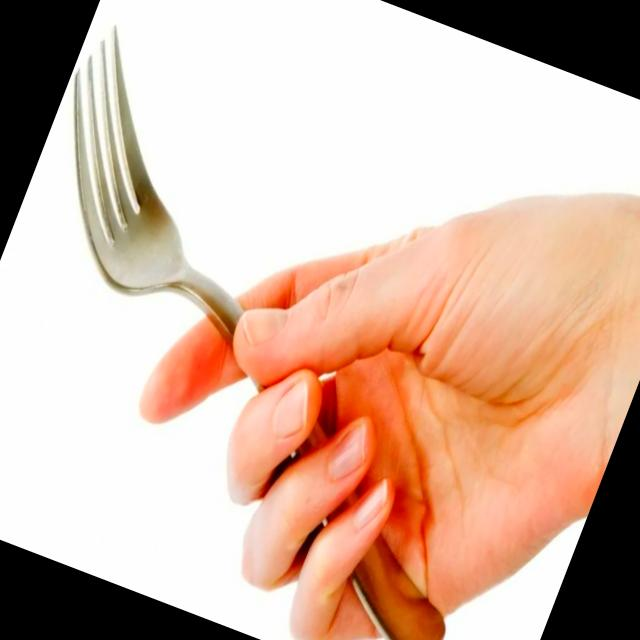fork: (0, 14, 609, 640)
